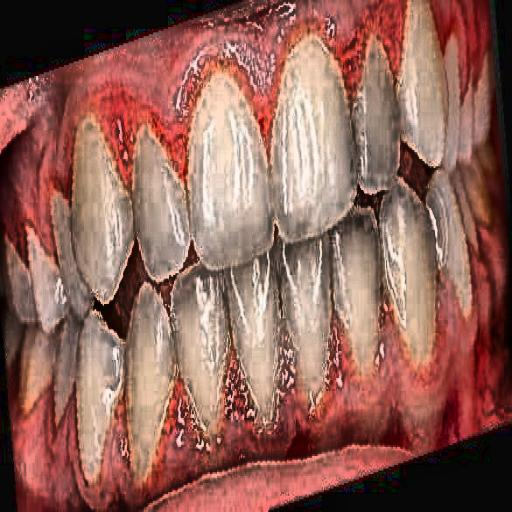Gingivitis: (41, 44, 202, 208), (210, 0, 442, 104)
